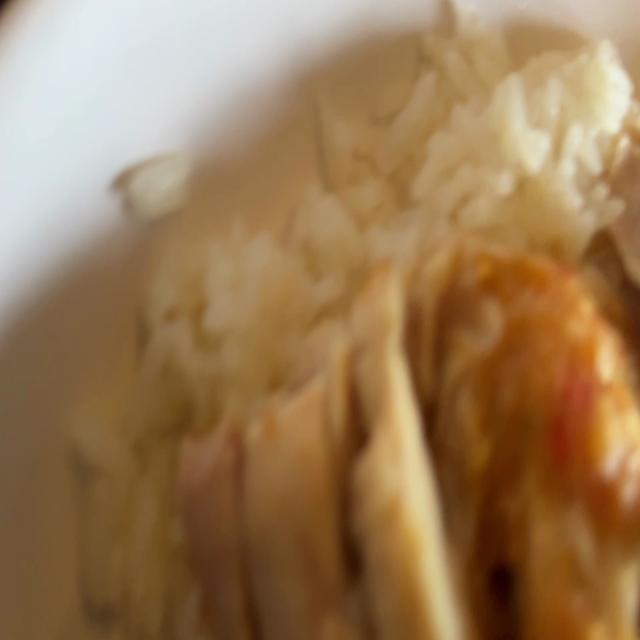boiled_chicken: (169, 236, 640, 640)
chicken_rice: (79, 0, 640, 640)
